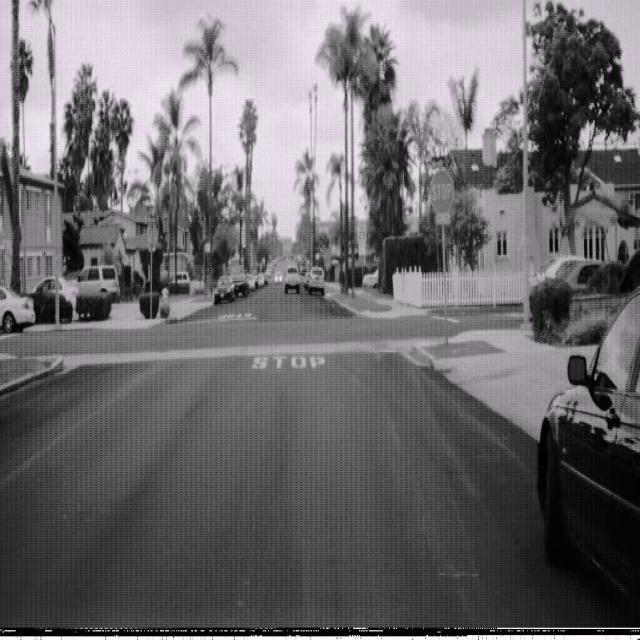stop: (429, 167, 454, 216)
